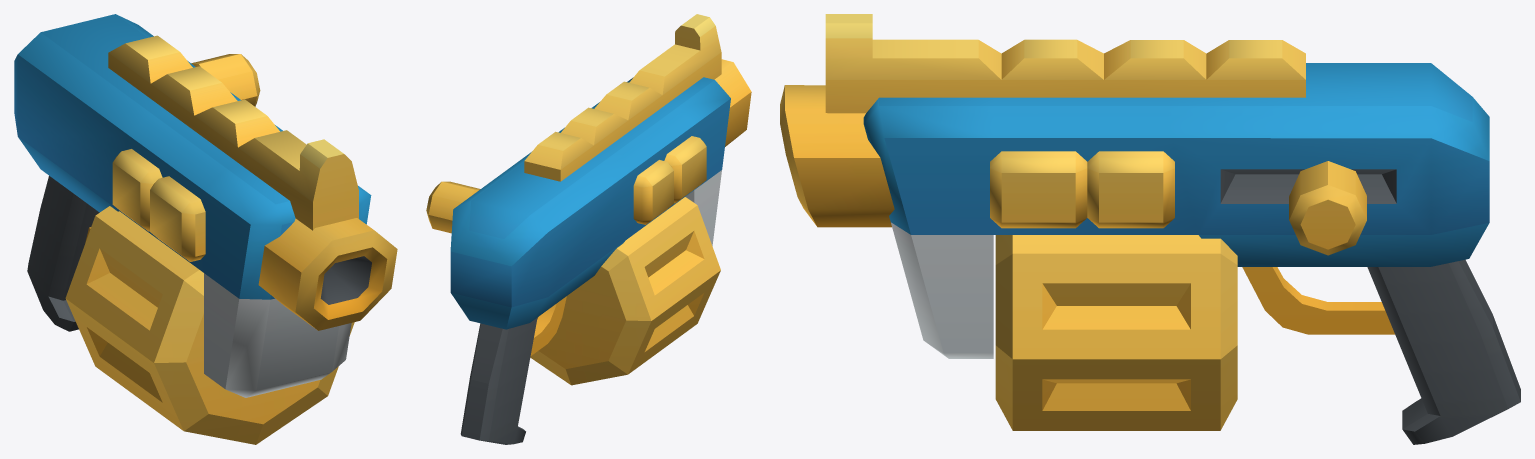
File: Gun_Pistol.gltf
3 views of the same model, side by side, from view 1: azimuth 30°, elevation 25°; view 2: azimuth 150°, elevation 25°; view 3: azimuth 270°, elevation 25° (orthographic). The views are drawn at different scales.
Parts seen in each view (by area): view 1: Gun_Pistol, Gun_Pistol_Magazine; view 2: Gun_Pistol, Gun_Pistol_Magazine; view 3: Gun_Pistol, Gun_Pistol_Magazine.
Part boxes in pixels (<box>): Gun_Pistol: <box>14,14,397,397</box>; Gun_Pistol_Magazine: <box>65,206,354,444</box>; Gun_Pistol: <box>426,14,751,444</box>; Gun_Pistol_Magazine: <box>530,197,720,385</box>; Gun_Pistol: <box>780,14,1520,444</box>; Gun_Pistol_Magazine: <box>995,235,1237,430</box>.
Bounding box in the file's own units: 0.3661 × 0.5429 × 0.8741.
1 material, 1 textured.
